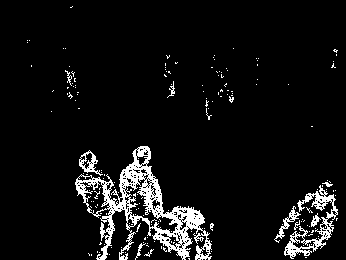person: (118, 145, 164, 260), (275, 175, 338, 256), (73, 151, 119, 260)
